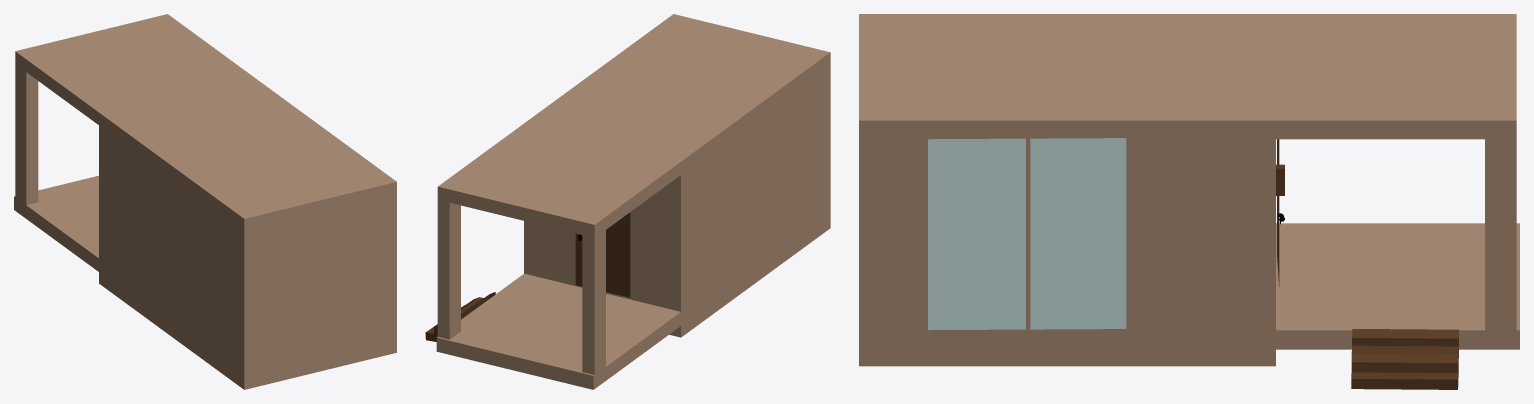
File: tinyhouse5.fbx
3 views of the same model, side by side, from view 1: azimuth 30°, elevation 25°; view 2: azimuth 150°, elevation 25°; view 3: azimuth 270°, elevation 25° (orthographic). The views are drawn at different scales.
Visible parts, largest first — view 1: Cube; view 2: Cube, Cube.002, Cube.005, Cube.001, Cube.006; view 3: Cube, Cube.004, Cube.003, Cube.006.
Boxes of the visible parts, x1=… form: Cube: x1=14, y1=14, x2=396, y2=389; Cube: x1=436, y1=14, x2=830, y2=389; Cube.002: x1=606, y1=187, x2=664, y2=307; Cube.005: x1=575, y1=212, x2=630, y2=297; Cube.001: x1=541, y1=225, x2=582, y2=287; Cube.006: x1=425, y1=292, x2=495, y2=341; Cube: x1=859, y1=14, x2=1519, y2=366; Cube.004: x1=928, y1=138, x2=1025, y2=330; Cube.003: x1=1030, y1=138, x2=1126, y2=329; Cube.006: x1=1351, y1=329, x2=1458, y2=389.
Size of the model in its own units: 485 by 431 by 1047.
